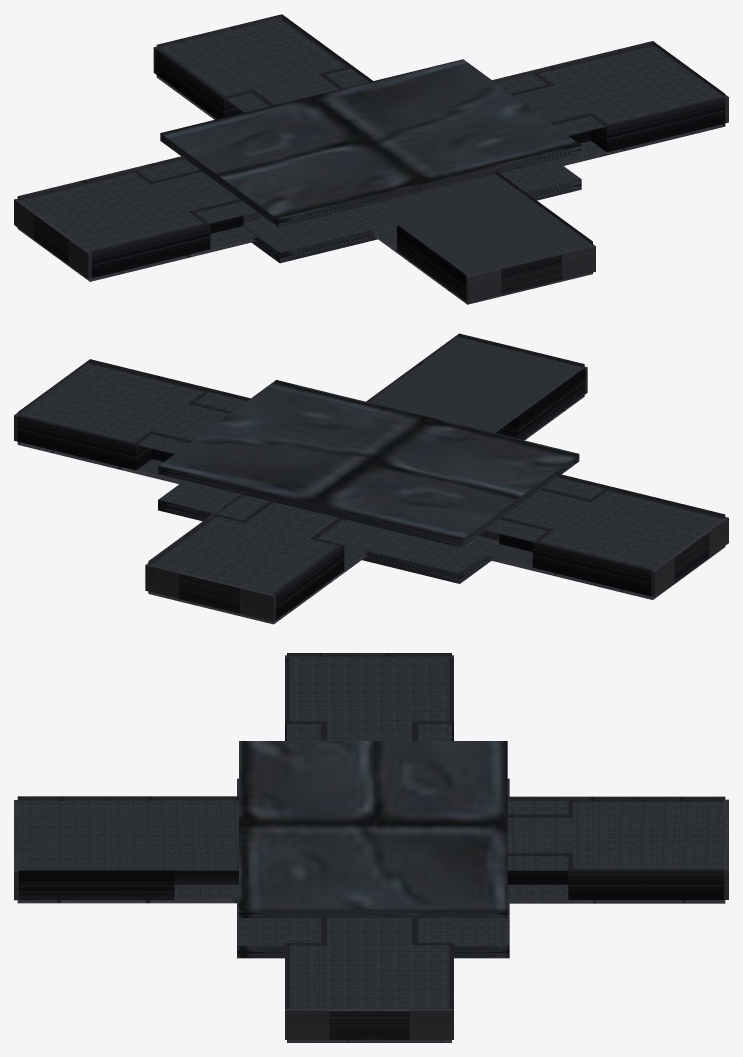
File: escenario_ruben.fbx
The picture shows the model from 3 angles, top to bottom: view 1: azimuth 30°, elevation 25°; view 2: azimuth 150°, elevation 25°; view 3: azimuth 270°, elevation 25°; orthographic projection. The views are drawn at different scales.
Visible parts, largest first — view 1: Cubo.007, Cube.002, Cube, Cube.003, Cube.001, Cubo.008; view 2: Cubo.007, Cube.002, Cube.001, Cube.003, Cube, Cubo.008; view 3: Cubo.007, Cube, Cube.001, Cube.003, Cube.002, Cubo.008.
Boxes of the visible parts, x1,y1,x2,y2 form: Cubo.007: [160, 59, 581, 226]; Cube.002: [14, 155, 257, 281]; Cube: [370, 170, 595, 304]; Cube.003: [492, 41, 728, 165]; Cube.001: [153, 14, 372, 119]; Cubo.008: [243, 159, 581, 263]; Cubo.007: [158, 380, 579, 547]; Cube.002: [485, 473, 728, 599]; Cube.001: [145, 491, 368, 624]; Cube.003: [14, 359, 250, 484]; Cube: [366, 333, 587, 440]; Cubo.008: [158, 480, 499, 583]; Cubo.007: [239, 741, 507, 917]; Cube: [14, 796, 238, 903]; Cube.001: [507, 796, 728, 903]; Cube.003: [285, 917, 453, 1042]; Cube.002: [285, 653, 453, 740]; Cubo.008: [237, 778, 509, 958].
Bounding box in the file's own units: 36260 × 2346 × 30776.
